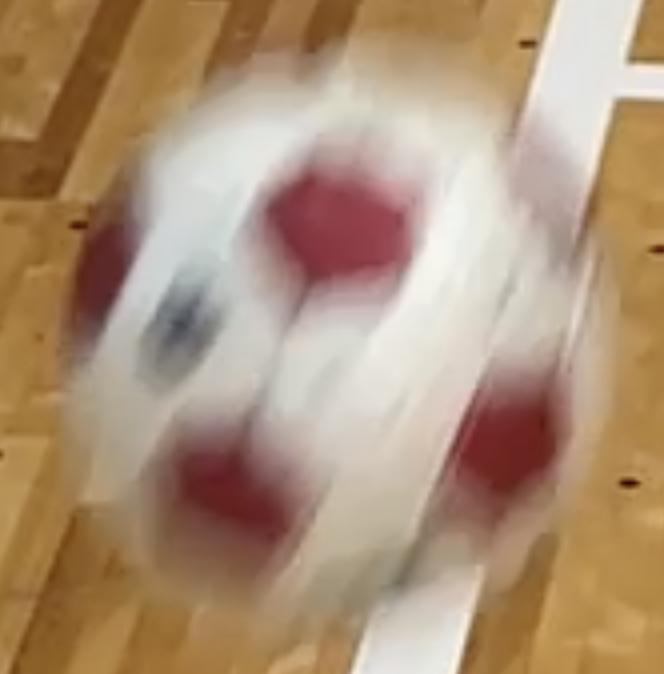Sports-Ball: (60, 44, 572, 531)
